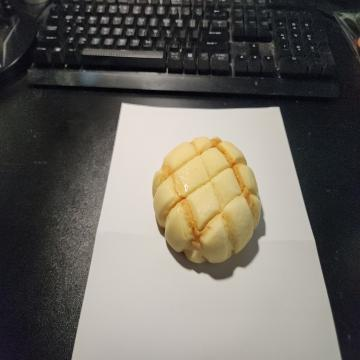melon_bread: (152, 136, 262, 264)
